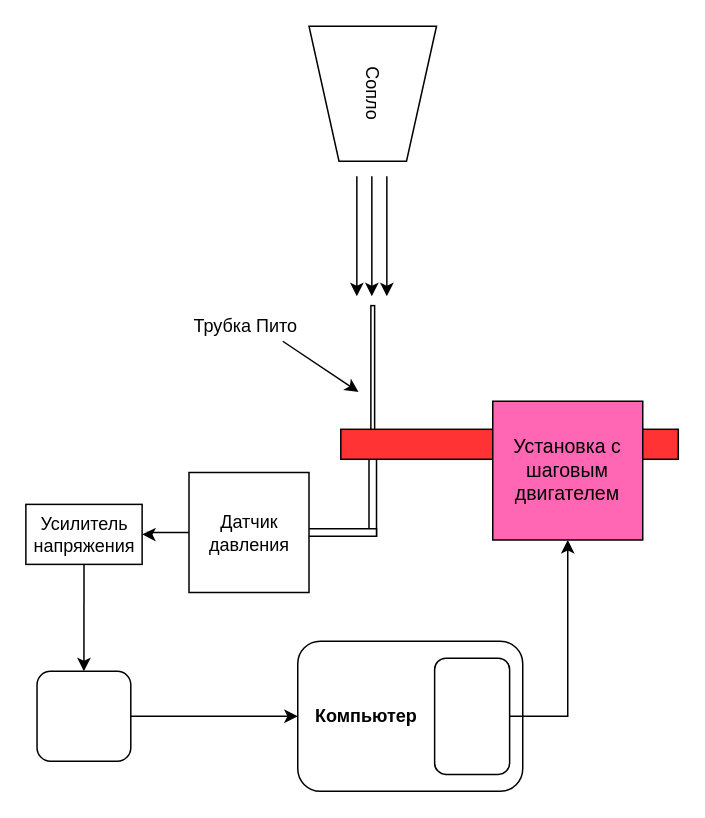
The diagram is 705 pixels wide and 818 high, and some of its shapes have lost their labels. The centre of each missing label's shape, as x and y in pixels:
"АЦП" belongs at (x=83, y=715).
"Программа" belongs at (x=471, y=715).
